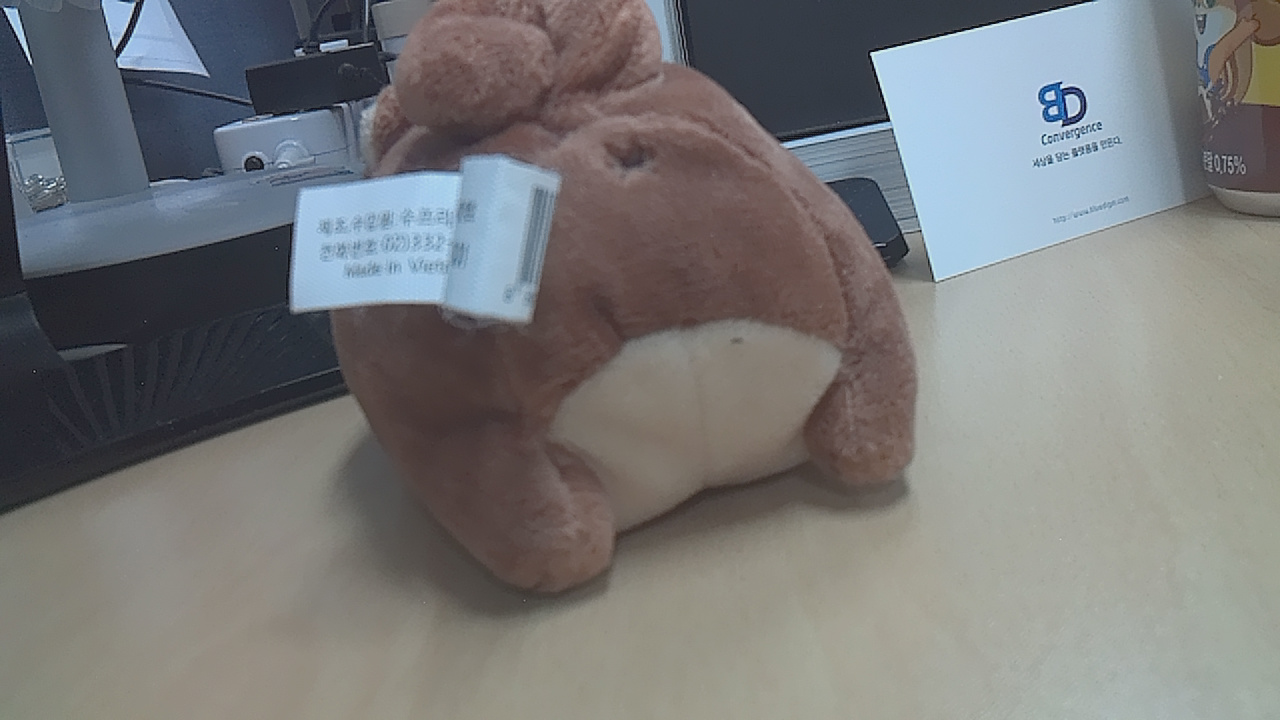cuteDog: (347, 38, 984, 544)
